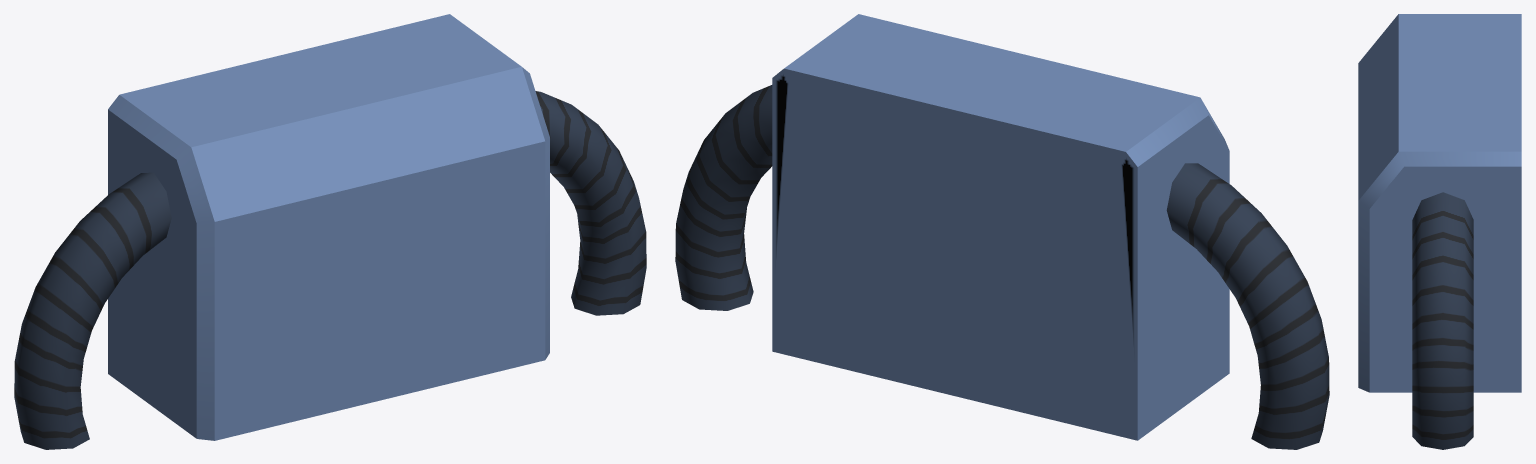
Rendered from Transporter.fbx.
3 views of the same model, side by side, from view 1: azimuth 30°, elevation 25°; view 2: azimuth 150°, elevation 25°; view 3: azimuth 270°, elevation 25° (orthographic). The views are drawn at different scales.
Visible parts, largest first — view 1: Cube.002; view 2: Cube.002; view 3: Cube.002.
Part boxes in pixels (x1,y1,x2,y2): Cube.002: [14, 14, 646, 449]; Cube.002: [675, 14, 1329, 449]; Cube.002: [1358, 14, 1521, 449].
Size of the model in its own units: 185 by 79.27 by 48.93.
1 material, 1 textured.
